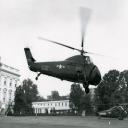helicopter: (26, 8, 102, 95)
